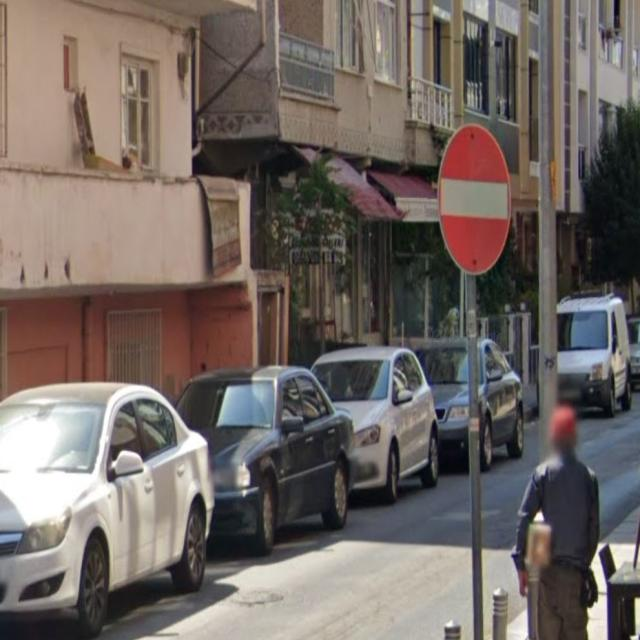girisyok: (438, 122, 512, 276)
